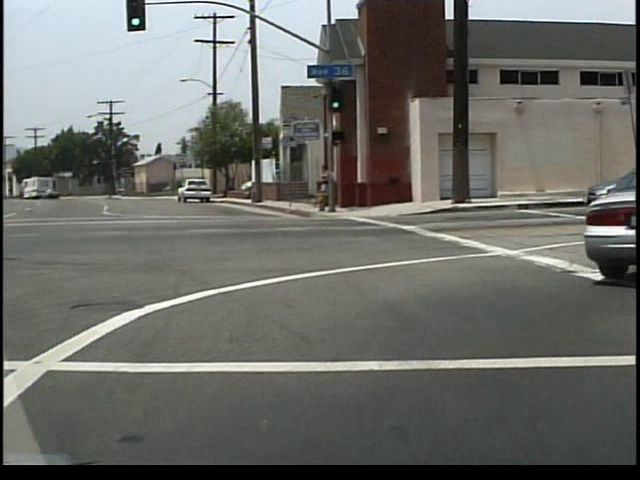person: (322, 164, 340, 213)
